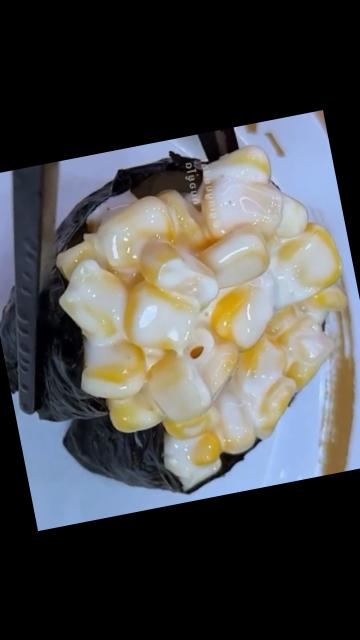janwhite: (0, 170, 76, 531), (293, 109, 360, 464)
